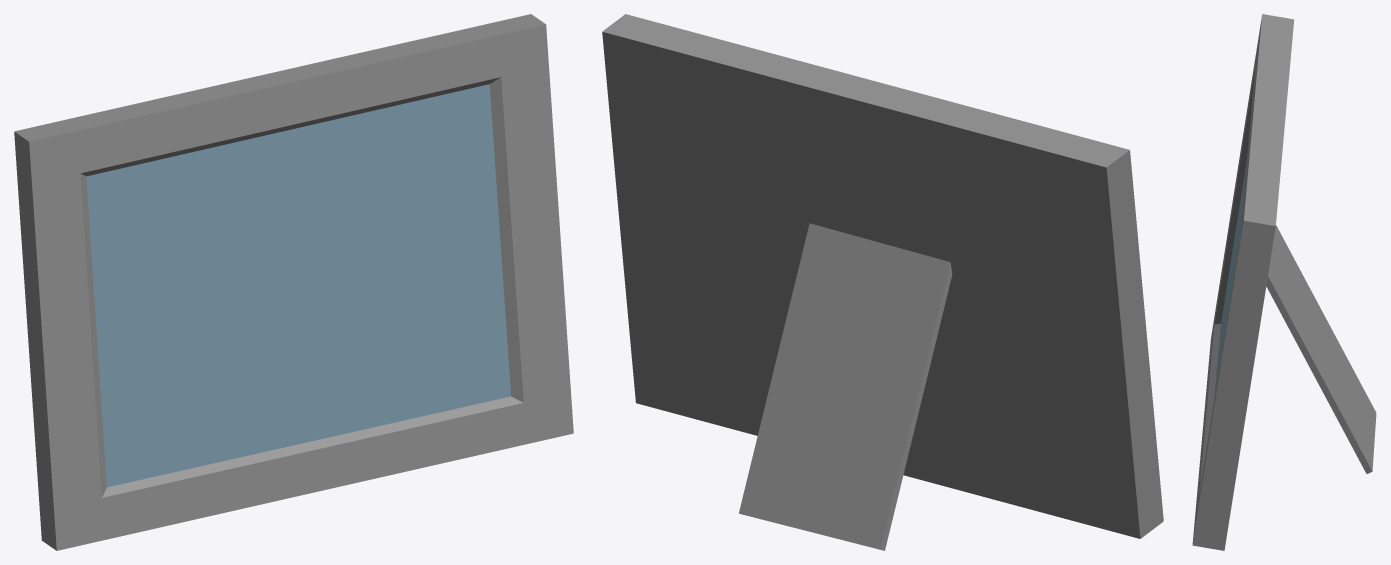
Rendered from Photoframe_4.fbx.
The picture shows the model from 3 angles, left to right: view 1: azimuth 30°, elevation 25°; view 2: azimuth 150°, elevation 25°; view 3: azimuth 270°, elevation 25°; orthographic projection. The views are drawn at different scales.
Parts seen in each view (by area): view 1: Photoframe_4; view 2: Photoframe_4; view 3: Photoframe_4.
Boxes of the visible parts, x1,y1,x2,y2 form: Photoframe_4: (14, 14, 573, 550); Photoframe_4: (602, 14, 1163, 550); Photoframe_4: (1192, 14, 1376, 550).
Bounding box in the file's own units: 34.04 × 12.54 × 24.9.
